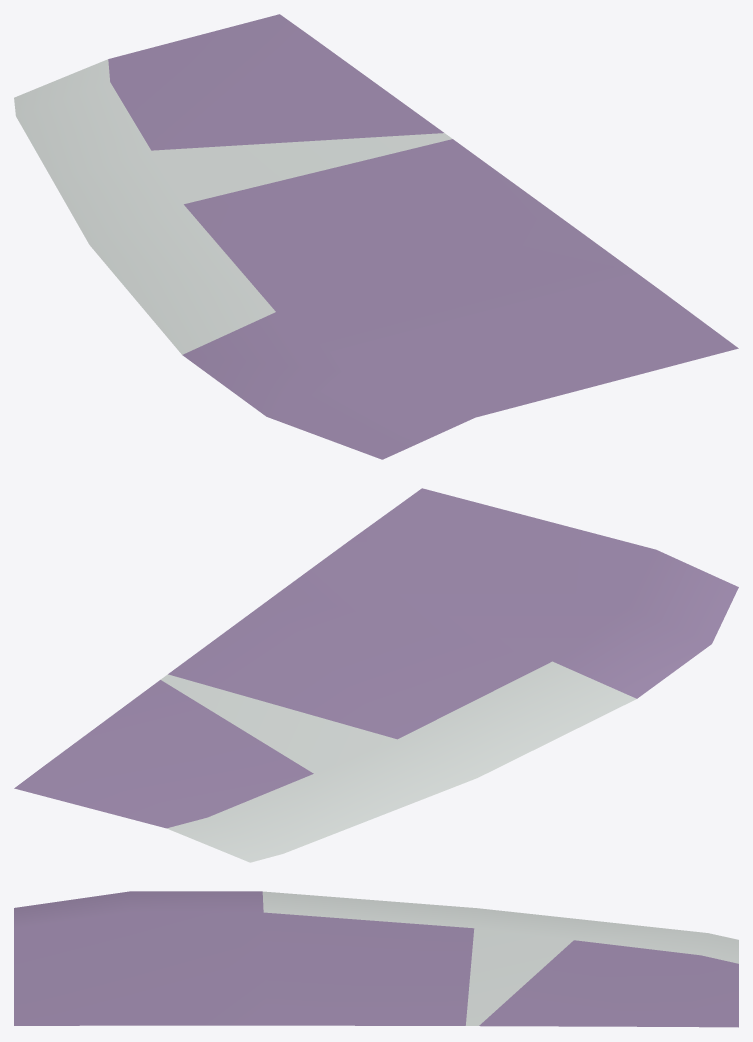
3 renders of one model, top to bottom at view 1: azimuth 30°, elevation 25°; view 2: azimuth 150°, elevation 25°; view 3: azimuth 270°, elevation 25°, orthographic. The views are drawn at different scales.
Visible parts, largest first — view 1: G:\FFXIV-MapTools\exports\m5f1\bg\ex4\02_mid_m5\fld\m5f1\bgp (×2); view 2: G:\FFXIV-MapTools\exports\m5f1\bg\ex4\02_mid_m5\fld\m5f1\bgp (×2); view 3: G:\FFXIV-MapTools\exports\m5f1\bg\ex4\02_mid_m5\fld\m5f1\bgp (×2).
Part boxes in pixels (x1=…): G:\FFXIV-MapTools\exports\m5f1\bg\ex4\02_mid_m5\fld\m5f1\bgp (×2): x1=14, y1=14, x2=738, y2=459; G:\FFXIV-MapTools\exports\m5f1\bg\ex4\02_mid_m5\fld\m5f1\bgp (×2): x1=14, y1=488, x2=738, y2=862; G:\FFXIV-MapTools\exports\m5f1\bg\ex4\02_mid_m5\fld\m5f1\bgp (×2): x1=14, y1=891, x2=738, y2=1027.
Size of the model in its own units: 64.28 by 3.86 by 128.
